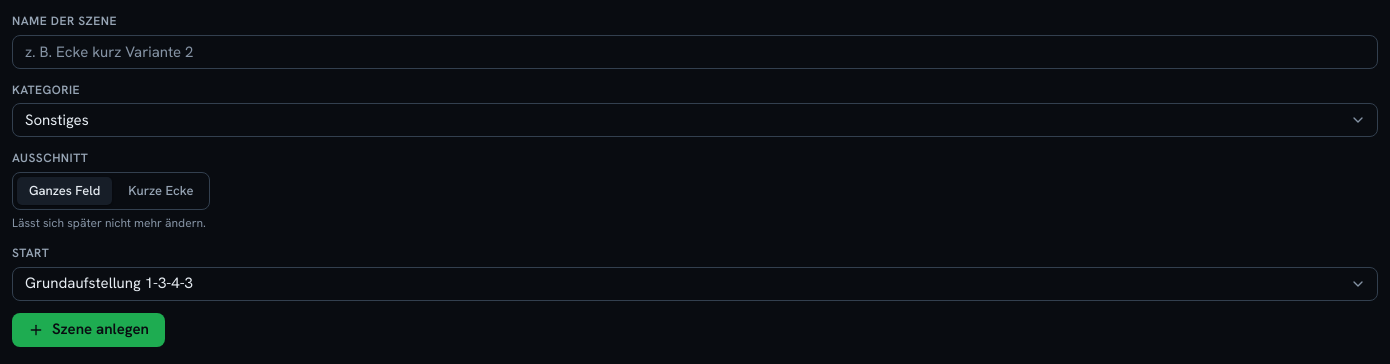
Test: CreateSceneForm › offers the built-in starts and the formations of the chosen view
This screenshot has width=1390, height=364.
Click the radio button labelled "Kurze Ecke" at (161, 190), box 128,182 -> 193,199
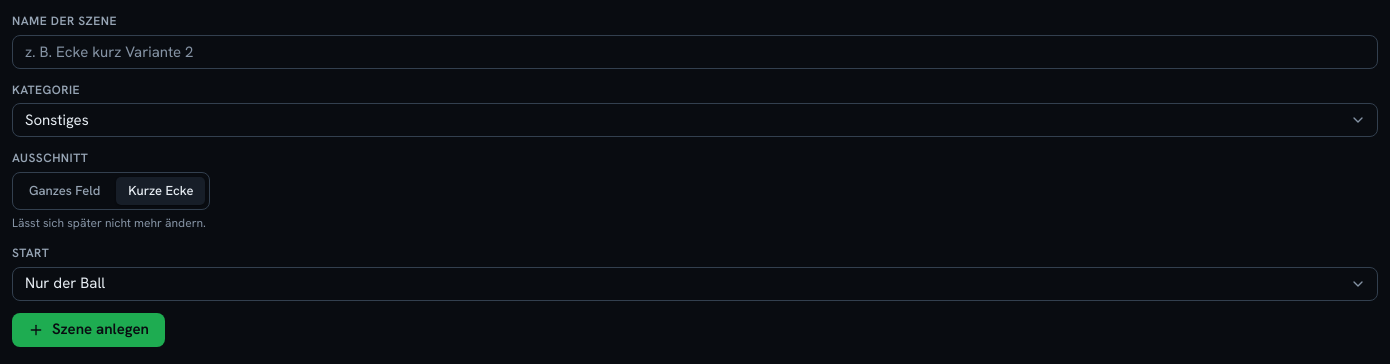
Result: the dropdown labelled "Start" shows "Nur der Ball" at 12,267 -> 1378,301
